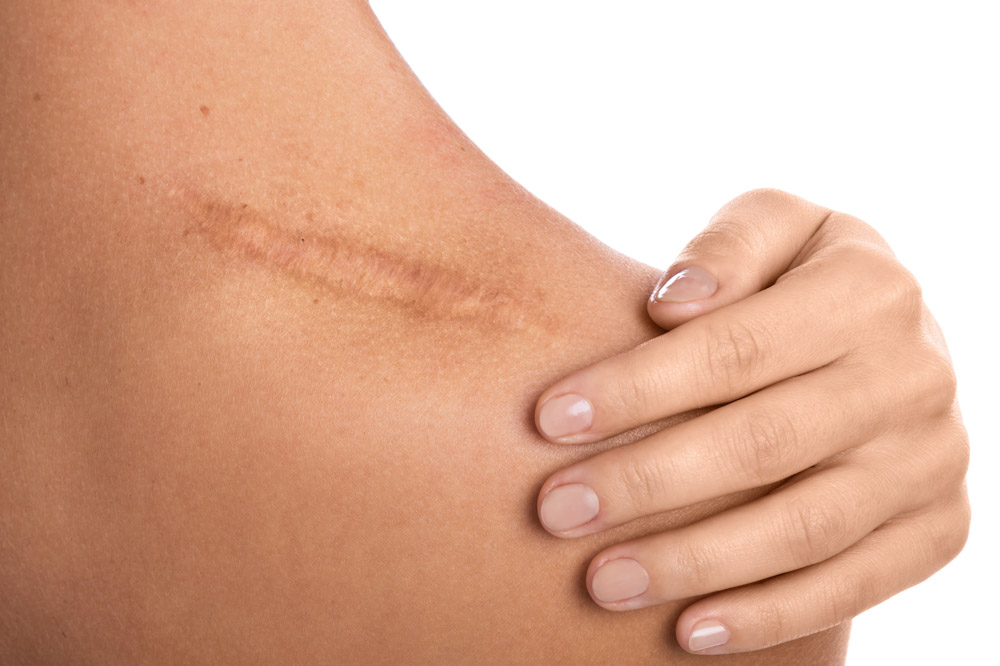scar: (156, 170, 561, 363)
